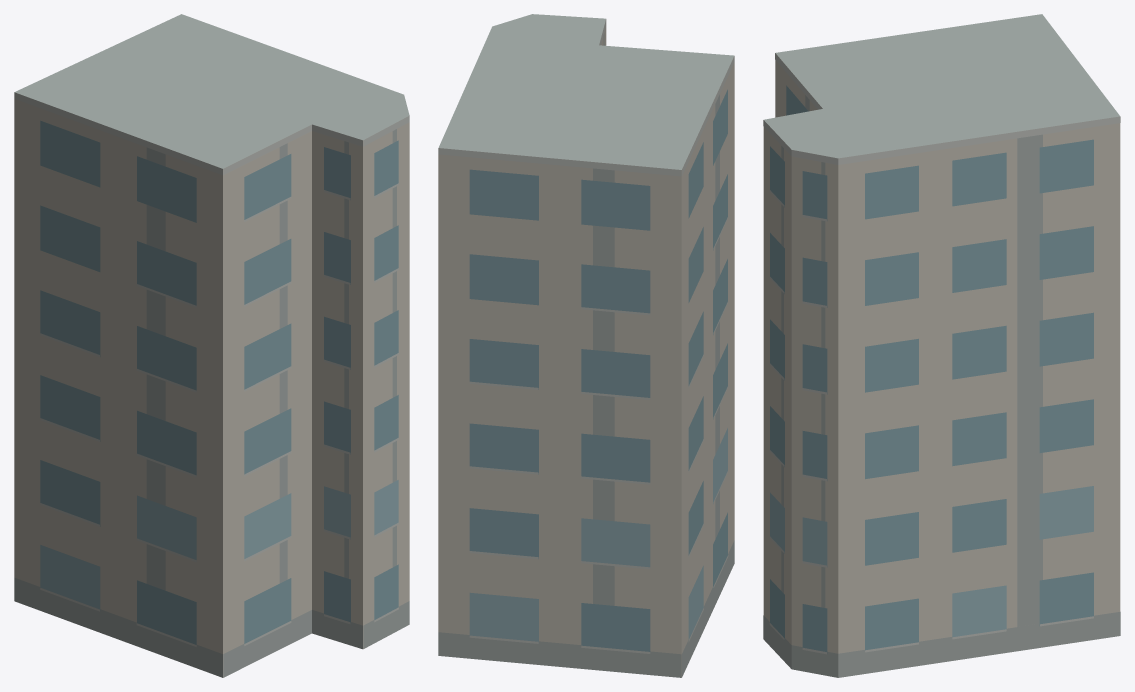
Rendered from survey-upis-32990375.glb.
The picture shows the model from 3 angles, left to right: view 1: azimuth 30°, elevation 25°; view 2: azimuth 150°, elevation 25°; view 3: azimuth 270°, elevation 25°; orthographic projection. The views are drawn at different scales.
Parts seen in each view (by area): view 1: survey-upis-32990375.tmp; view 2: survey-upis-32990375.tmp; view 3: survey-upis-32990375.tmp.
Boxes of the visible parts, x1,y1,x2,y2 form: survey-upis-32990375.tmp: (14,14,409,677); survey-upis-32990375.tmp: (438,14,734,677); survey-upis-32990375.tmp: (763,14,1120,677).
Size of the model in its own units: 11.39 by 19.1 by 11.9.
